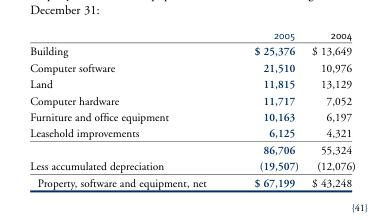table: (29, 28, 354, 188)
table column: (29, 28, 229, 188), (229, 28, 304, 188), (304, 28, 354, 188)
table column header: (29, 28, 354, 42)
table row: (29, 42, 354, 59), (29, 91, 354, 108), (29, 124, 354, 141), (29, 157, 354, 174), (29, 59, 354, 75), (29, 75, 354, 91), (29, 108, 354, 124), (29, 141, 354, 157), (29, 28, 354, 42), (29, 174, 354, 188)
